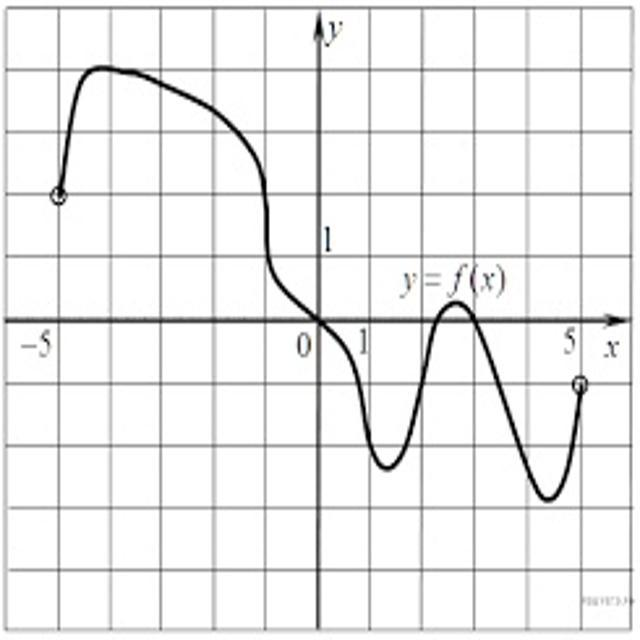axis: (2, 312, 640, 329), (309, 9, 326, 634)
line: (52, 61, 586, 506)
